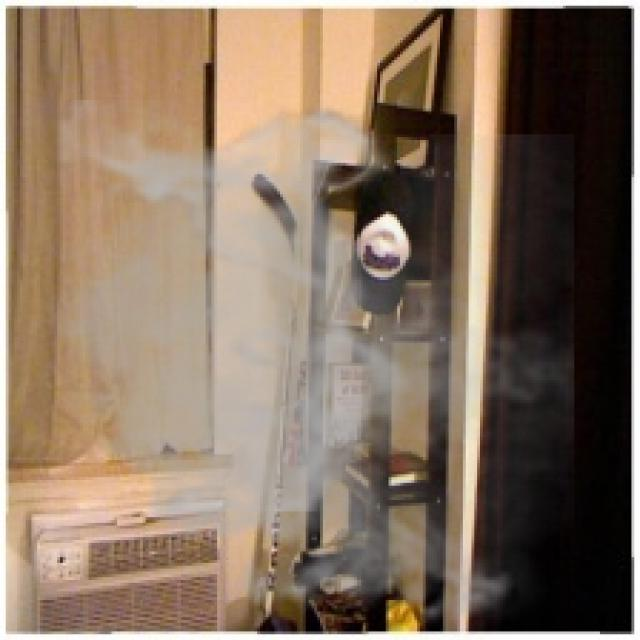smoke: (29, 100, 577, 637)
